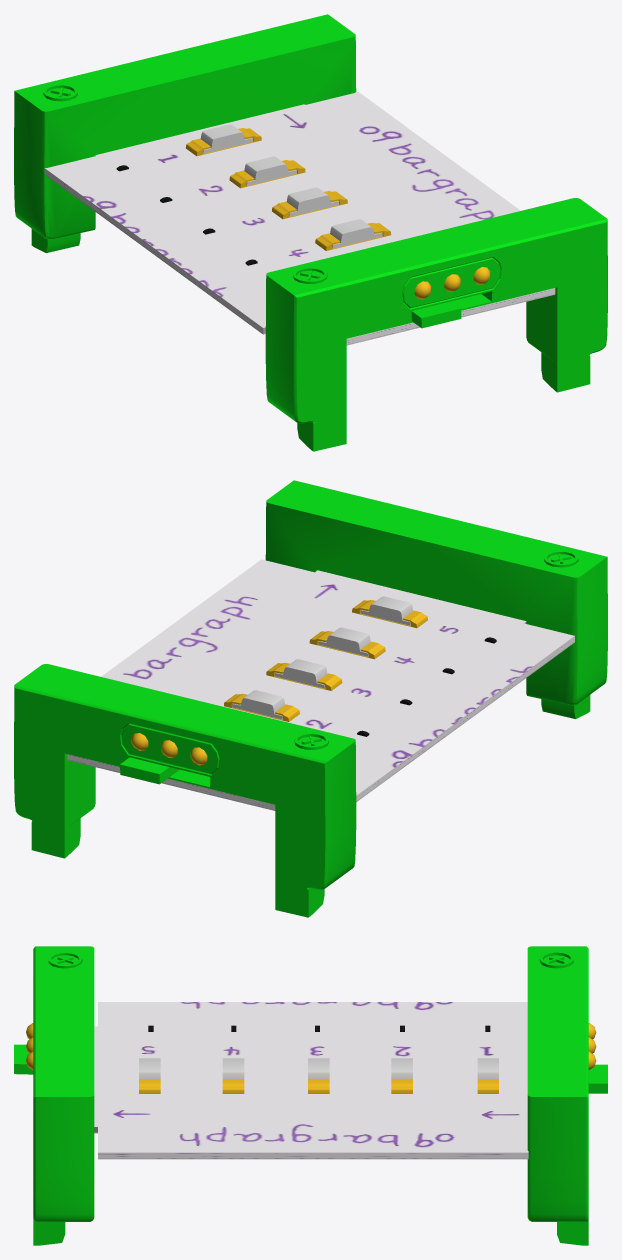
File: littlebit o9 bargraph.fbx
3 views of the same model, one above another, from view 1: azimuth 30°, elevation 25°; view 2: azimuth 150°, elevation 25°; view 3: azimuth 270°, elevation 25° (orthographic).
Parts seen in each view (by area): view 1: Box001, Line001, Line002, Line005, Line007, Line009, Line011, SShape001; view 2: Box001, Line002, Line001, Line007, Line009, Line005, Line003, SShape001; view 3: Box001, Line002, Line001, SShape001, Line005, Line003, Line007, Line009, Line011, Tube002.
Boxes of the visible parts, bbox=[...] form: Box001: bbox=[44, 91, 555, 344]; Line001: bbox=[265, 198, 607, 451]; Line002: bbox=[14, 14, 356, 252]; Line005: bbox=[330, 219, 382, 248]; Line007: bbox=[286, 187, 339, 216]; Line009: bbox=[244, 156, 296, 185]; Line011: bbox=[200, 124, 253, 153]; SShape001: bbox=[44, 174, 555, 345]; Box001: bbox=[67, 559, 574, 809]; Line002: bbox=[14, 664, 356, 917]; Line001: bbox=[265, 480, 607, 718]; Line007: bbox=[274, 659, 327, 688]; Line009: bbox=[232, 690, 284, 719]; Line005: bbox=[318, 627, 370, 656]; Line003: bbox=[360, 596, 412, 625]; SShape001: bbox=[67, 641, 574, 810]; Box001: bbox=[94, 1002, 528, 1158]; Line002: bbox=[527, 946, 607, 1245]; Line001: bbox=[14, 946, 94, 1245]; SShape001: bbox=[94, 1132, 528, 1159]; Line005: bbox=[222, 1058, 244, 1078]; Line003: bbox=[139, 1058, 160, 1078]; Line007: bbox=[308, 1058, 329, 1078]; Line009: bbox=[391, 1058, 412, 1078]; Line011: bbox=[477, 1058, 498, 1078]; Tube002: bbox=[539, 951, 573, 968].
Size of the model in its own units: 26.28 by 43.59 by 13.
